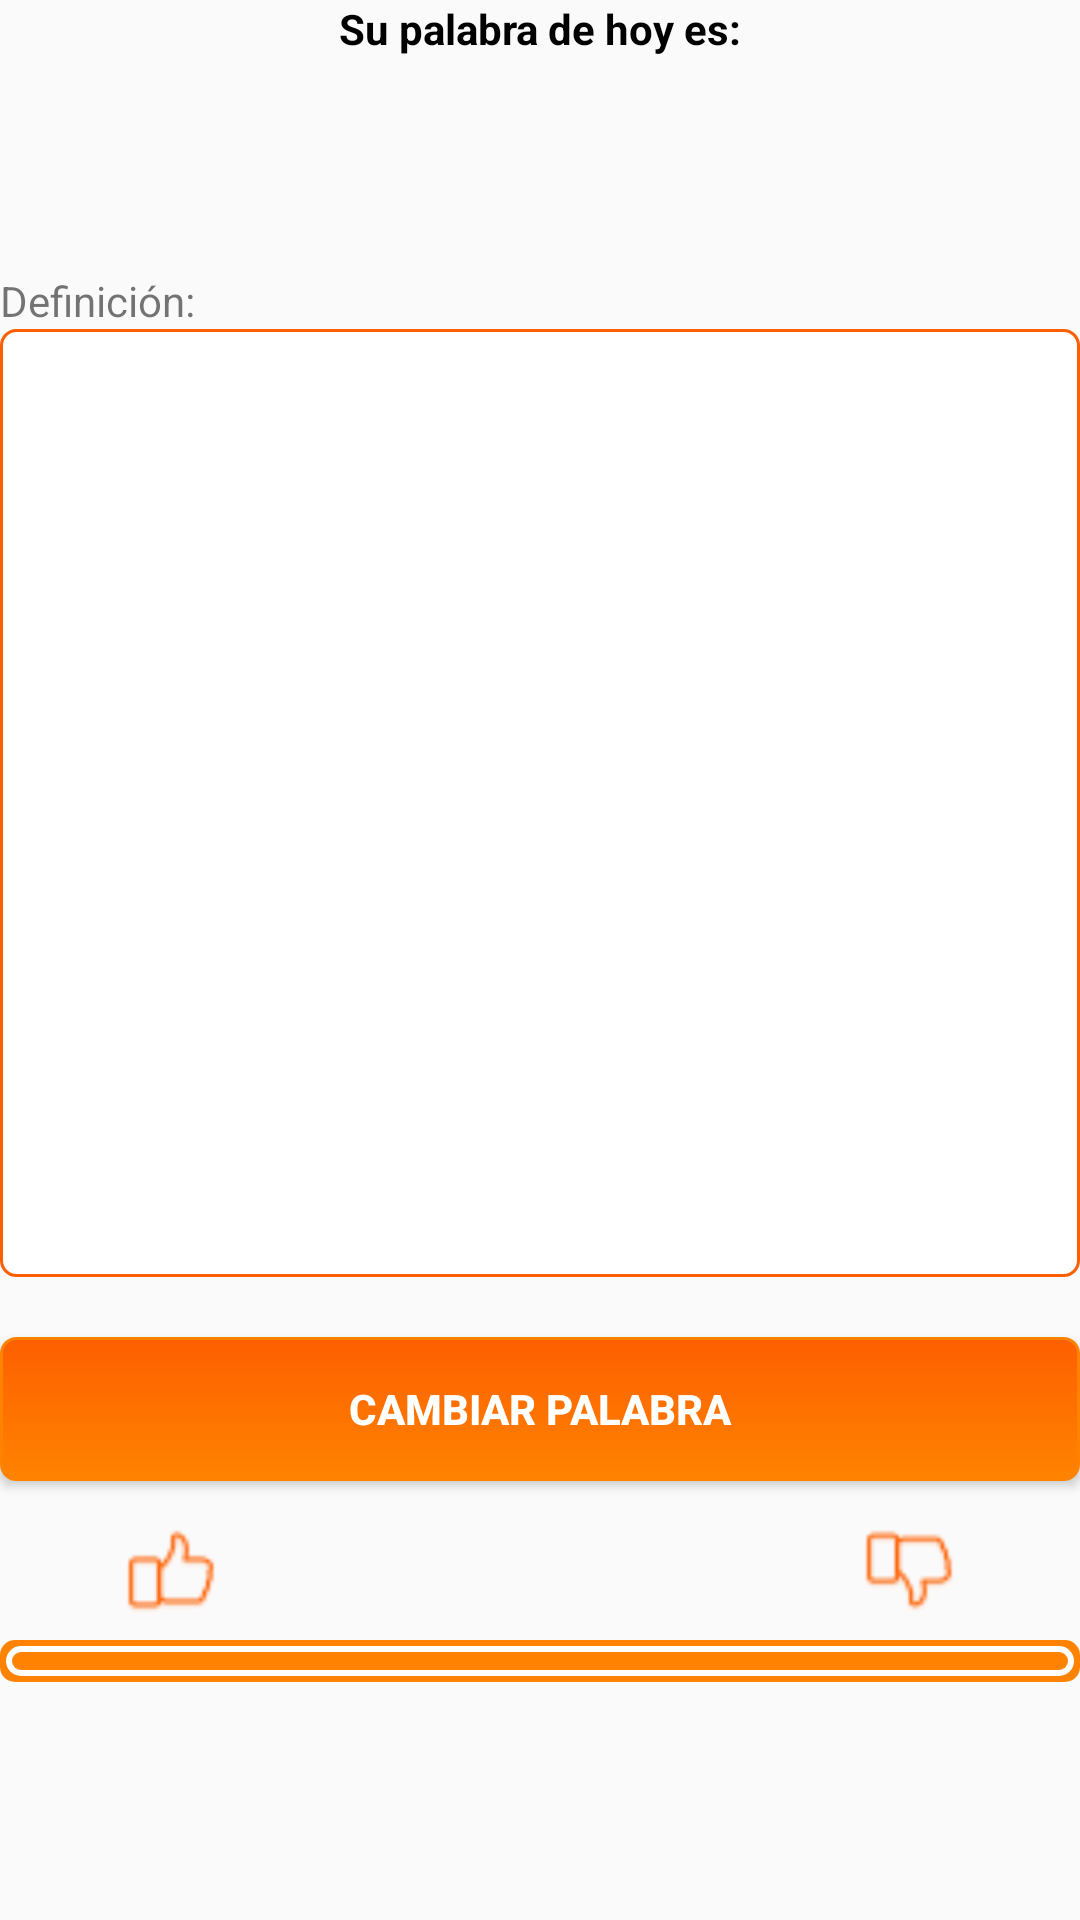

Icons on this 1080 × 1920 Android screen, each with its box as (x1=x1, y1=y1, x2=x2, y2=y2):
dislike: (x1=865, y1=1531, x2=953, y2=1610)
like: (x1=127, y1=1530, x2=215, y2=1610)
